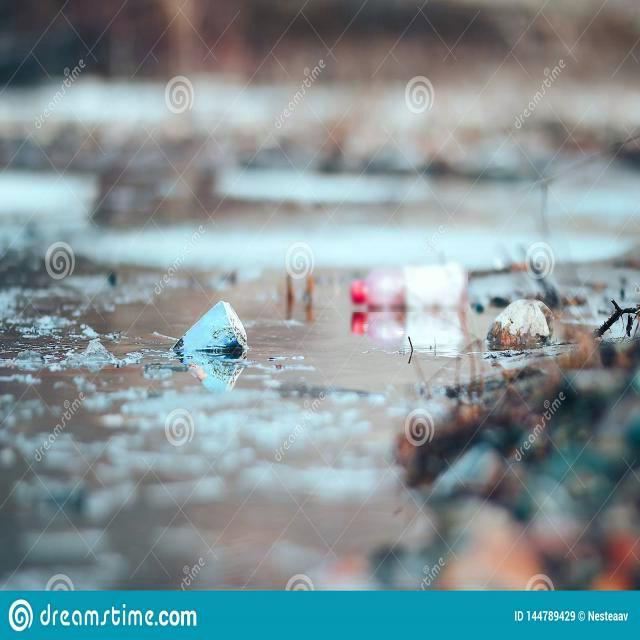Plastic: (191, 335, 247, 400), (347, 306, 414, 354)
